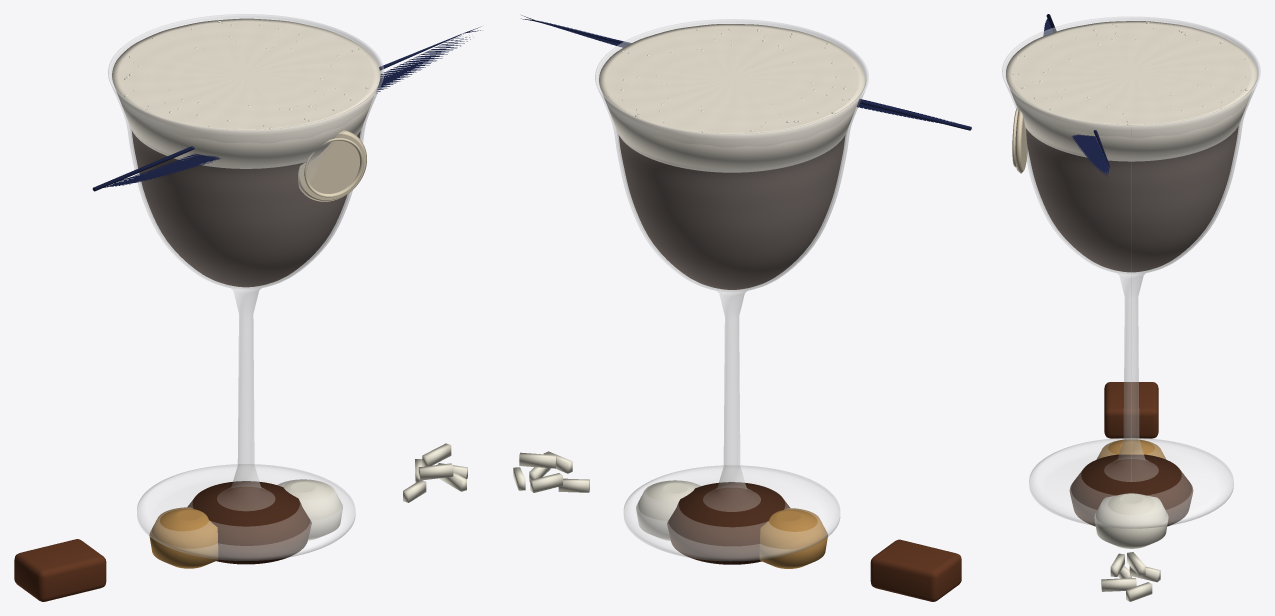
File: nighthawks.glb
3 renders of one model, left to right at view 1: azimuth 30°, elevation 25°; view 2: azimuth 150°, elevation 25°; view 3: azimuth 270°, elevation 25°, orthographic. The views are drawn at different scales.
Visible parts, largest first — view 1: glass, foam, liquid, recipe_coffee, recipe_chocolate, recipe_rum, garnish_chocolate_seal, garnish_feather, recipe_vodka, recipe_msg, garnish_quill, garnish_seal_imprint; view 2: glass, foam, liquid, recipe_coffee, recipe_chocolate, recipe_rum, recipe_vodka, recipe_msg, garnish_quill, garnish_feather; view 3: glass, foam, liquid, recipe_coffee, recipe_vodka, recipe_chocolate, recipe_msg, recipe_rum, garnish_feather, garnish_chocolate_seal.
Boxes of the visible parts, x1,y1,x2,y2 form: glass: (108,14,383,560); foam: (112,18,380,168); liquid: (132,131,360,287); recipe_coffee: (187,481,311,564); recipe_chocolate: (14,539,106,601); recipe_rum: (149,507,218,568); garnish_chocolate_seal: (298,130,366,201); garnish_feather: (92,26,481,189); recipe_vodka: (277,479,342,540); recipe_msg: (403,443,467,502); garnish_quill: (92,34,461,191); garnish_seal_imprint: (304,138,363,197); glass: (595,19,868,561); foam: (599,24,864,172); liquid: (618,135,845,289); recipe_coffee: (667,482,790,564); recipe_chocolate: (870,539,961,601); recipe_rum: (759,508,827,568); recipe_vodka: (636,480,700,540); recipe_msg: (513,451,589,492); garnish_quill: (541,22,971,130); garnish_feather: (521,15,971,128); glass: (1002,16,1260,528); foam: (1006,21,1256,161); liquid: (1026,126,1238,272); recipe_coffee: (1069,454,1193,526); recipe_vodka: (1094,493,1168,548); recipe_chocolate: (1104,382,1158,438); recipe_msg: (1101,552,1160,601); recipe_rum: (1096,439,1166,459); garnish_feather: (1043,18,1109,177); garnish_chocolate_seal: (1015,109,1027,173).
Size of the model in its own units: 2.5 by 2.55 by 1.34.
